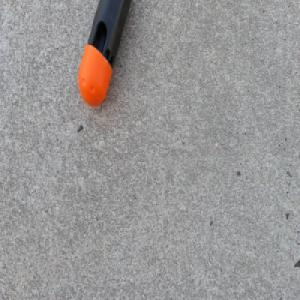PlasticPart: (77, 0, 132, 107)
